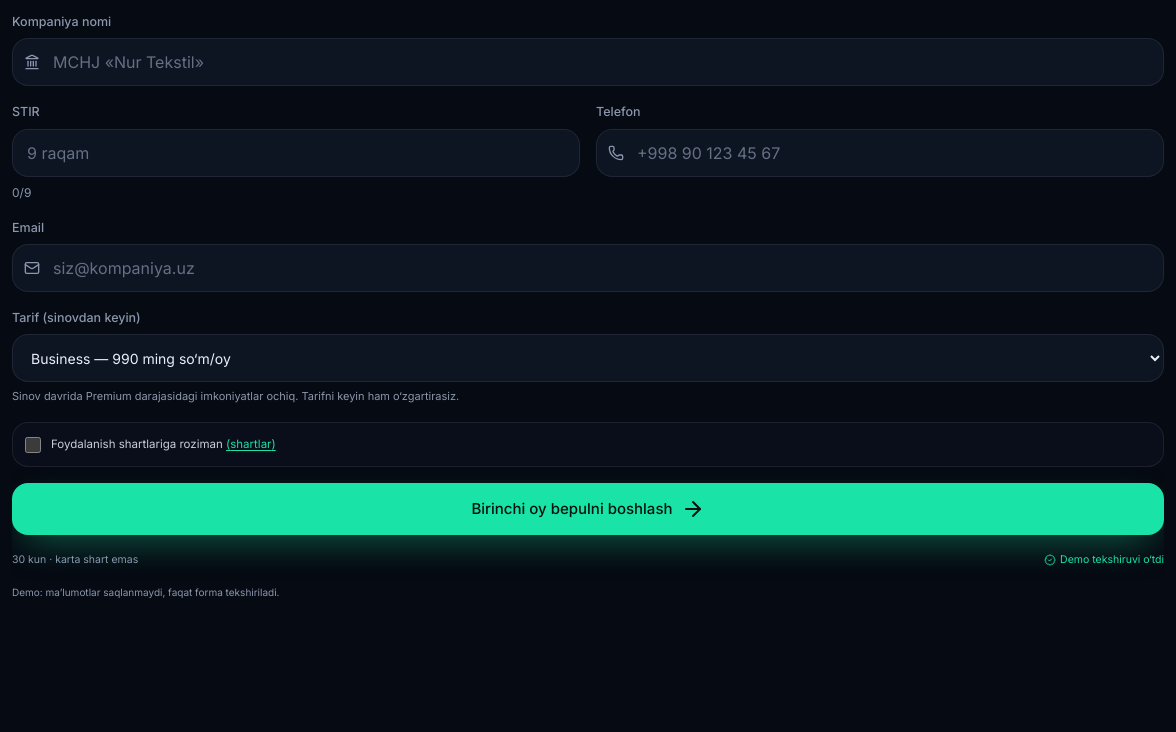
it: ro‘yxatdan o‘tish formasi › noto‘g‘ri STIR ni rad etadi
Step 1. Type "MCHJ Nur Tekstil" into the field labelled "Kompaniya nomi" → (588, 62), box 12,38 -> 1164,86
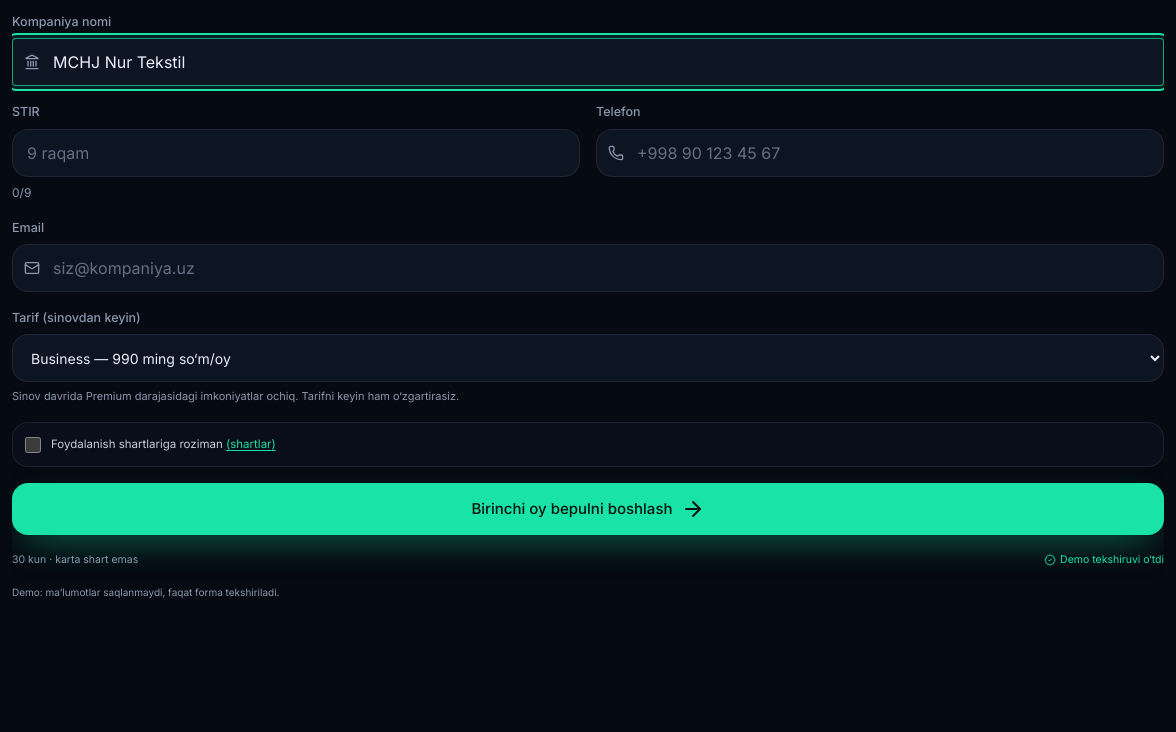
Step 2. Type "123" into the field labelled "STIR" → (296, 152), box 12,128 -> 580,176
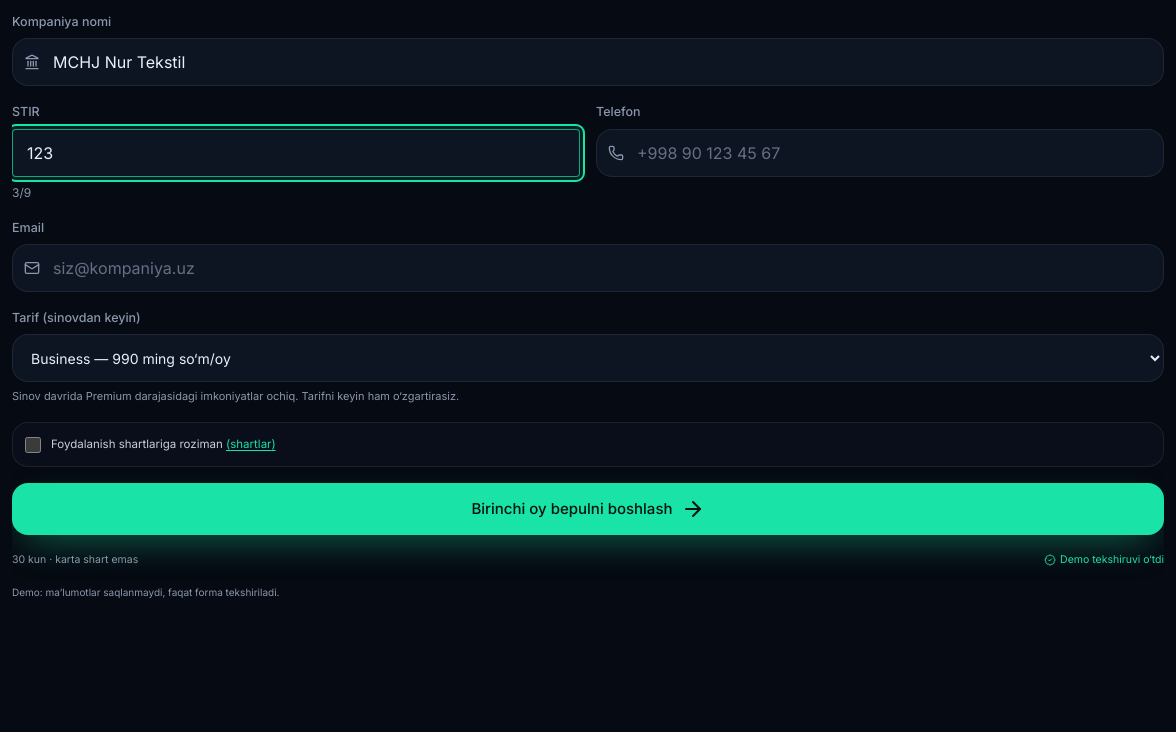
Step 3. Click the checkbox → (33, 445), box 25,437 -> 41,453
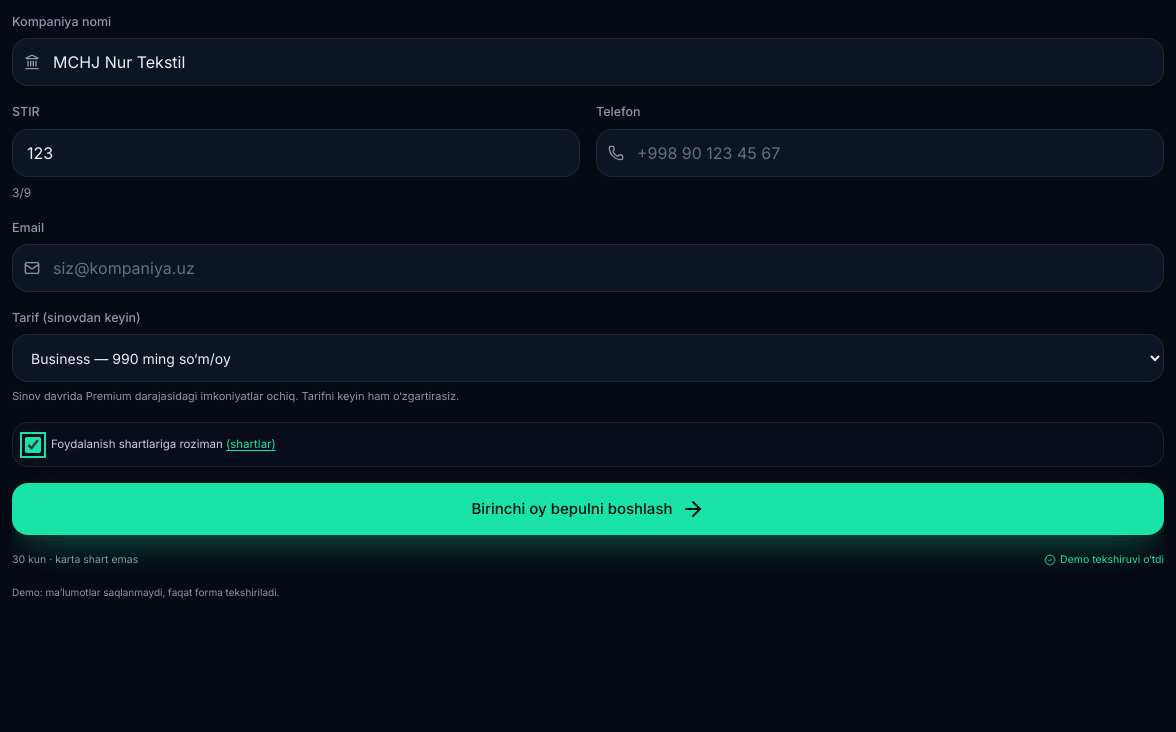
Step 4. Click the button "Birinchi oy bepulni boshlash" → (588, 509), box 12,483 -> 1164,535
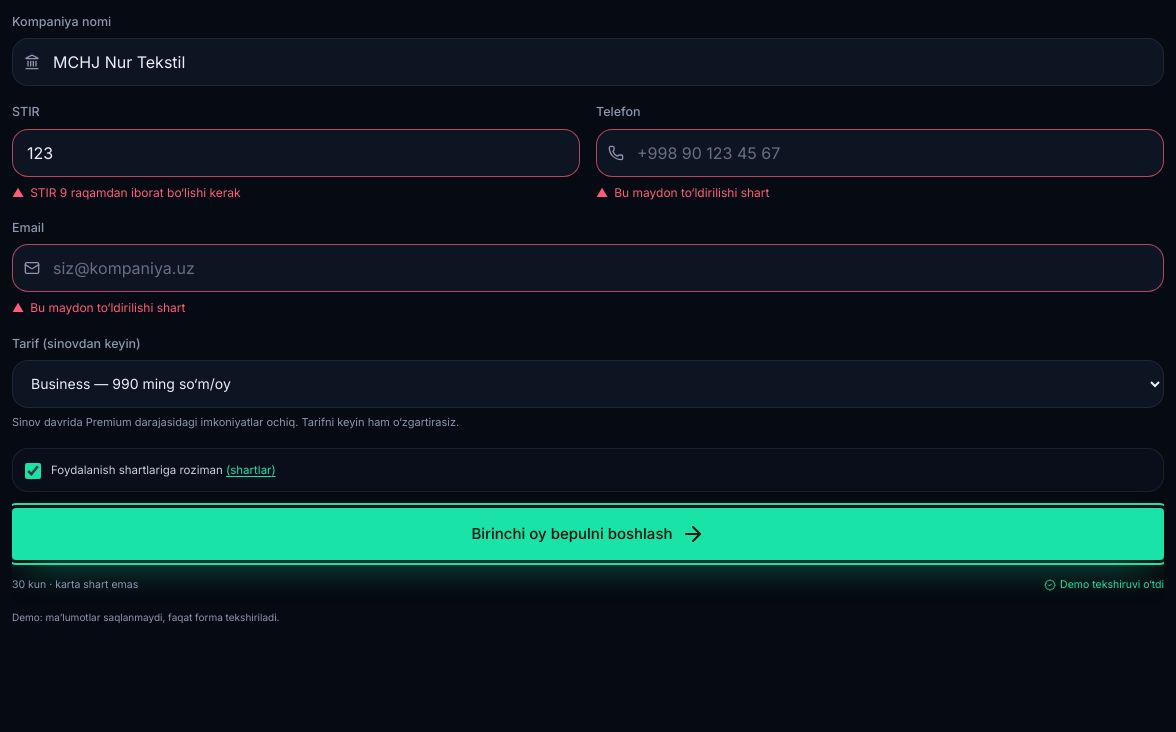
Expected: the text "STIR 9 raqamdan iborat bo‘lishi kerak" is shown, 30,184 -> 241,200
